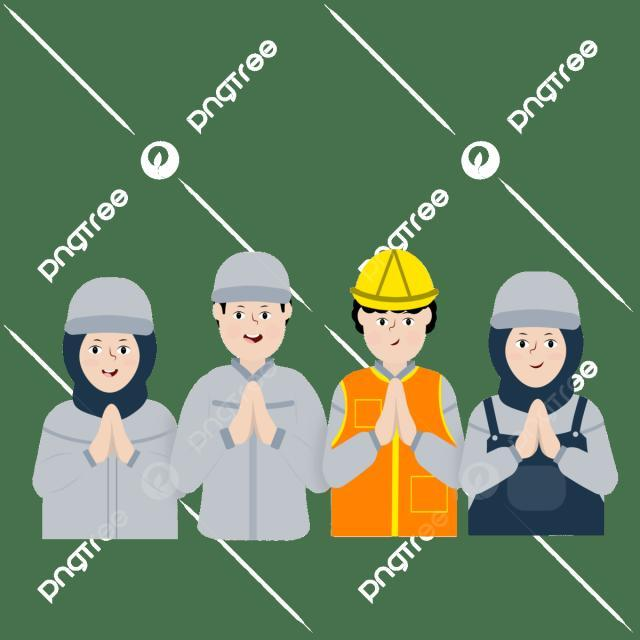reflective_jacket: (328, 361, 459, 534)
safety_helmet: (62, 274, 159, 339), (487, 267, 582, 332), (349, 245, 440, 312), (209, 248, 296, 306)
